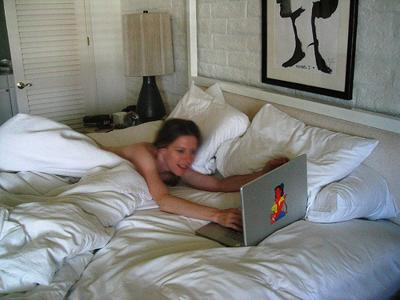person: (98, 118, 294, 233)
